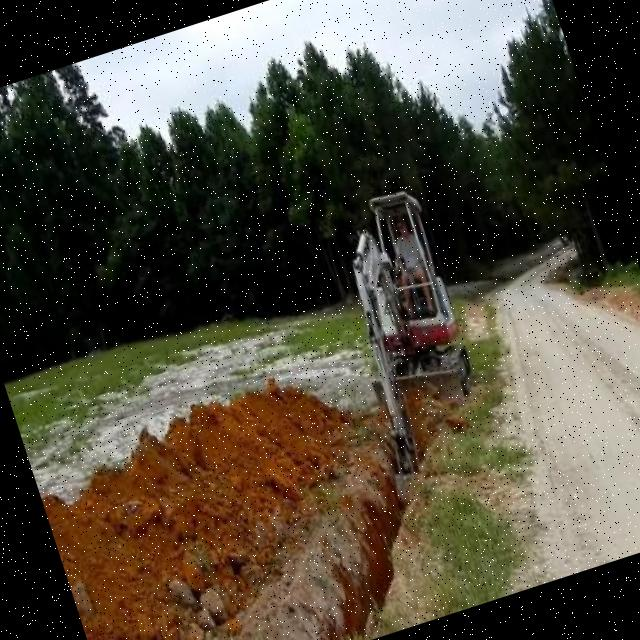Excavator: (306, 182, 507, 506)
